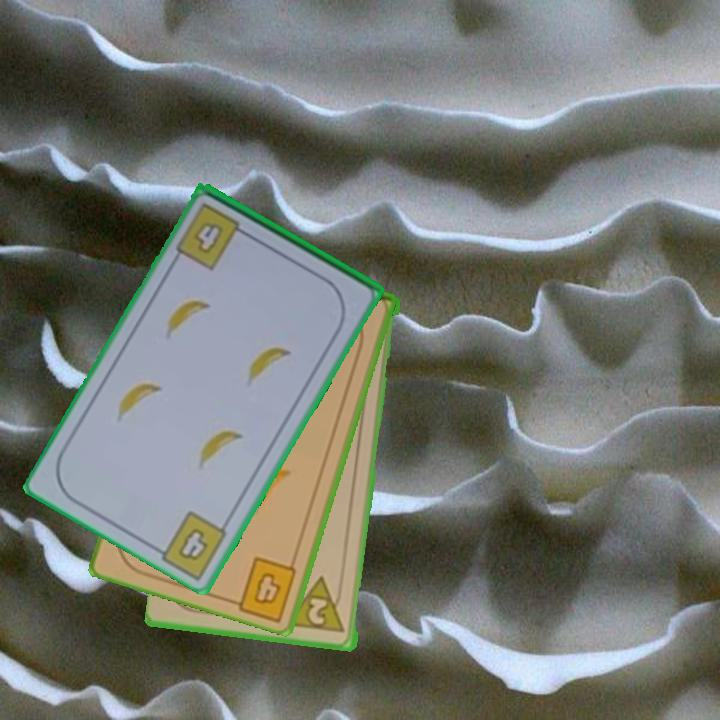2p: (285, 574, 349, 637)
4b: (172, 199, 254, 273), (174, 524, 211, 565), (250, 569, 285, 609)
